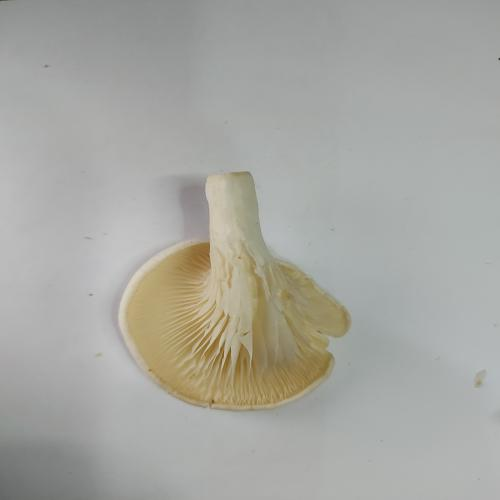Oyster Mushroom: (117, 170, 352, 412)
